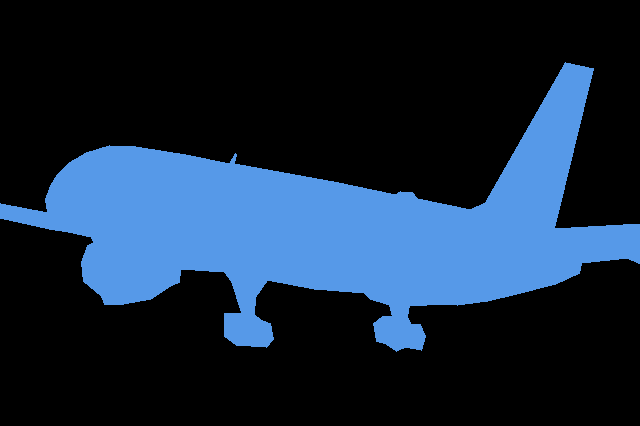Airplane: (0, 62, 640, 351)
